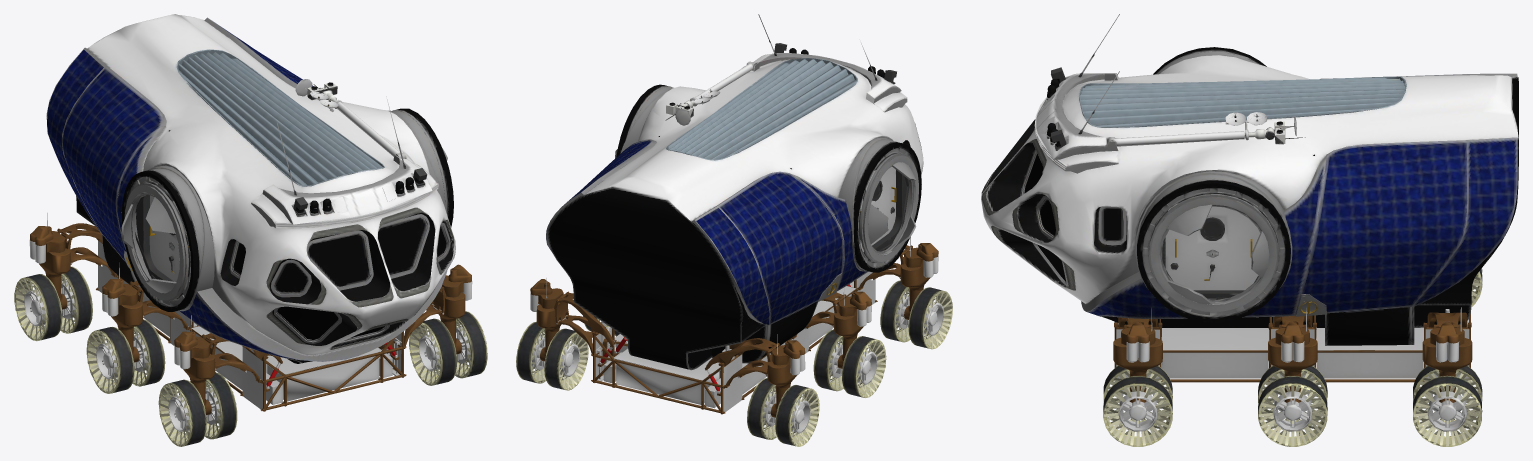
Rendered from nasa_space_exploration_vehicle_sev.glb.
3 renders of one model, left to right at view 1: azimuth 30°, elevation 25°; view 2: azimuth 150°, elevation 25°; view 3: azimuth 270°, elevation 25°, orthographic. The views are drawn at different scales.
Parts seen in each view (by area): view 1: Object_36, Object_38, Object_50, Object_40, Object_8, Object_20, Object_18, Object_46, Object_32, Object_42, Object_16, Object_14 (+7 smaller); view 2: Object_36, Object_38, Object_50, Object_14, Object_40, Object_8, Object_18, Object_46, Object_32, Object_42, Object_56, Object_54 (+7 smaller); view 3: Object_36, Object_20, Object_50, Object_40, Object_8, Object_46, Object_42, Object_18, Object_38, Object_64, Object_32, Object_14 (+3 smaller).
Boxes of the visible parts, x1=… form: Object_36: x1=46, y1=14, x2=455, y2=363; Object_38: x1=47, y1=48, x2=454, y2=359; Object_50: x1=14, y1=266, x2=487, y2=446; Object_40: x1=16, y1=241, x2=467, y2=444; Object_8: x1=29, y1=240, x2=472, y2=383; Object_20: x1=123, y1=280, x2=381, y2=404; Object_18: x1=24, y1=282, x2=470, y2=431; Object_46: x1=14, y1=274, x2=487, y2=446; Object_32: x1=30, y1=227, x2=471, y2=358; Object_42: x1=14, y1=276, x2=471, y2=445; Object_16: x1=46, y1=275, x2=461, y2=415; Object_14: x1=31, y1=183, x2=438, y2=421; Object_36: x1=546, y1=14, x2=923, y2=369; Object_38: x1=687, y1=43, x2=921, y2=370; Object_50: x1=516, y1=280, x2=952, y2=446; Object_14: x1=564, y1=92, x2=937, y2=423; Object_40: x1=534, y1=286, x2=950, y2=444; Object_8: x1=530, y1=256, x2=938, y2=388; Object_18: x1=532, y1=294, x2=943, y2=433; Object_46: x1=516, y1=287, x2=952, y2=446; Object_32: x1=530, y1=244, x2=938, y2=365; Object_42: x1=531, y1=289, x2=952, y2=445; Object_56: x1=559, y1=263, x2=900, y2=386; Object_54: x1=559, y1=245, x2=909, y2=369; Object_36: x1=981, y1=52, x2=1518, y2=345; Object_20: x1=1159, y1=327, x2=1423, y2=378; Object_50: x1=1103, y1=268, x2=1482, y2=446; Object_40: x1=1106, y1=275, x2=1479, y2=444; Object_8: x1=1113, y1=337, x2=1472, y2=375; Object_46: x1=1104, y1=269, x2=1481, y2=446; Object_42: x1=1104, y1=275, x2=1481, y2=446; Object_18: x1=1118, y1=377, x2=1466, y2=431; Object_38: x1=983, y1=14, x2=1517, y2=318; Object_64: x1=1116, y1=321, x2=1456, y2=382; Object_32: x1=1121, y1=322, x2=1464, y2=347; Object_14: x1=1034, y1=97, x2=1471, y2=420.
Bounding box in the file's own units: 1.05 × 1.03 × 1.53.
1 material, 1 textured.
